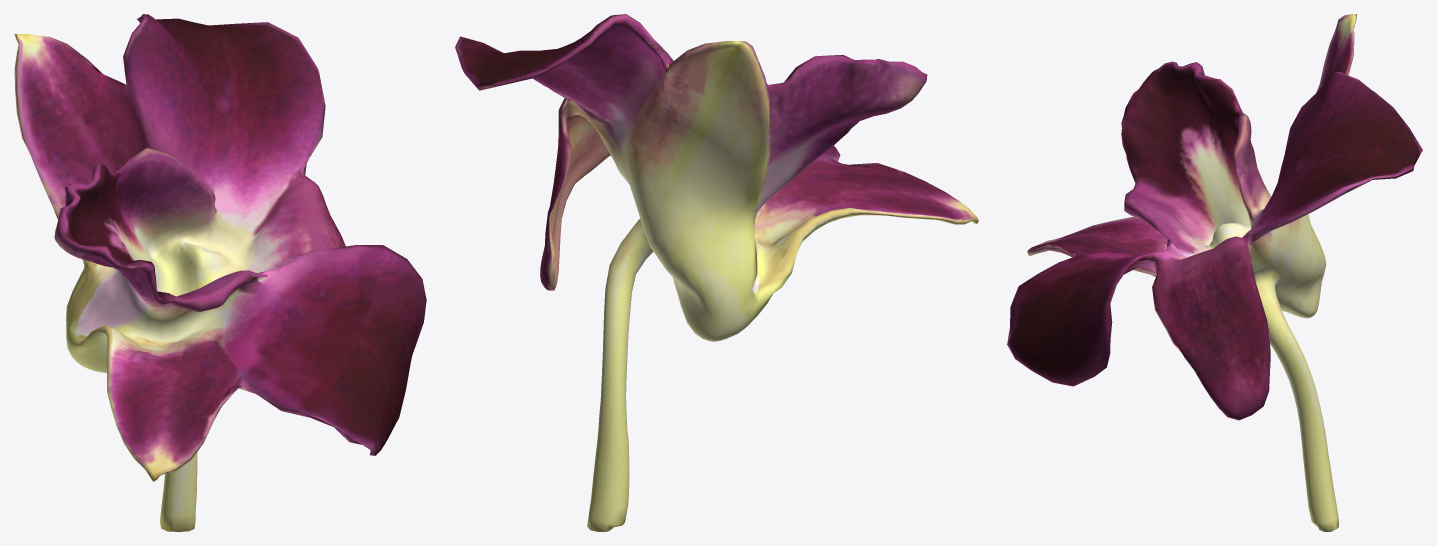
The model's file is Flower.gltf.
3 renders of one model, left to right at view 1: azimuth 30°, elevation 25°; view 2: azimuth 150°, elevation 25°; view 3: azimuth 270°, elevation 25°, orthographic. The views are drawn at different scales.
Parts seen in each view (by area): view 1: Flower_Low:Group59299; view 2: Flower_Low:Group59299; view 3: Flower_Low:Group59299.
Boxes of the visible parts, x1,y1,x2,y2 form: Flower_Low:Group59299: (14,14,426,531); Flower_Low:Group59299: (455,14,978,531); Flower_Low:Group59299: (1007,14,1422,531).
Size of the model in its own units: 12.64 by 18.02 by 15.02.
Materials: 1 (1 with a texture image).
